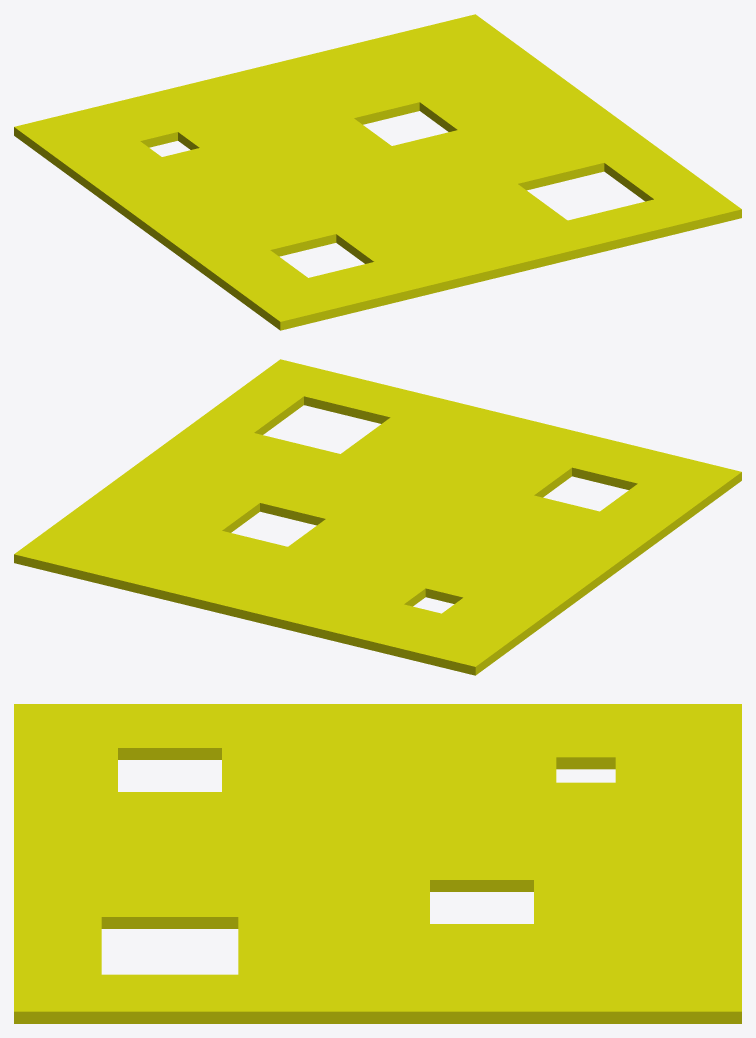
File: cheese.fbx
The picture shows the model from 3 angles, top to bottom: view 1: azimuth 30°, elevation 25°; view 2: azimuth 150°, elevation 25°; view 3: azimuth 270°, elevation 25°; orthographic projection. The views are drawn at different scales.
Visible parts, largest first — view 1: Plane; view 2: Plane; view 3: Plane.
Part boxes in pixels (left/top/right/bottom): Plane: left=14, top=14, right=741, bottom=330; Plane: left=14, top=359, right=741, bottom=675; Plane: left=14, top=704, right=741, bottom=1023.
Bounding box in the file's own units: 200 × 3.64 × 200.
